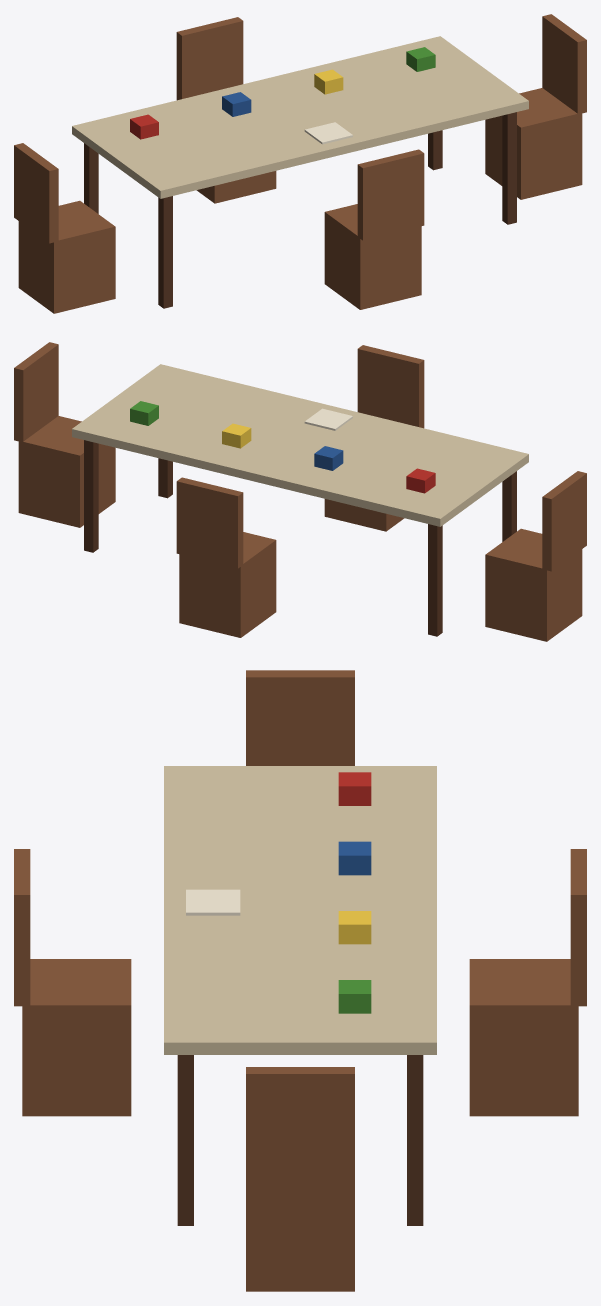
Rendered from art_table.glb.
3 renders of one model, top to bottom at view 1: azimuth 30°, elevation 25°; view 2: azimuth 150°, elevation 25°; view 3: azimuth 270°, elevation 25°, orthographic. The views are drawn at different scales.
Parts seen in each view (by area): view 1: Box1, Box12, Box6, Box10, Box7, Box9, Box13, Box11, Box3, Box5, Box8, Box2 (+6 smaller); view 2: Box1, Box12, Box8, Box10, Box9, Box7, Box13, Box11, Box2, Box4, Box6, Box3 (+6 smaller); view 3: Box1, Box6, Box8, Box11, Box10, Box13, Box4, Box5, Box7, Box9, Box14, Box16 (+3 smaller).
Boxes of the visible parts, <box> form: Box1: <box>72,36,528,198</box>; Box12: <box>18,200,115,313</box>; Box6: <box>324,204,421,309</box>; Box10: <box>485,88,582,199</box>; Box7: <box>357,149,424,240</box>; Box9: <box>176,17,243,100</box>; Box13: <box>14,143,58,243</box>; Box11: <box>542,14,586,113</box>; Box3: <box>158,196,172,308</box>; Box5: <box>502,112,516,224</box>; Box8: <box>196,171,276,203</box>; Box2: <box>84,143,98,213</box>; Box1: <box>72,364,528,526</box>; Box12: <box>485,528,582,641</box>; Box8: <box>179,532,276,637</box>; Box10: <box>18,416,115,527</box>; Box9: <box>176,477,243,568</box>; Box7: <box>357,345,424,428</box>; Box13: <box>542,471,586,571</box>; Box11: <box>14,342,58,441</box>; Box2: <box>428,524,442,636</box>; Box4: <box>84,440,98,552</box>; Box6: <box>324,499,404,531</box>; Box3: <box>502,471,516,541</box>; Box1: <box>164,766,436,1054</box>; Box6: <box>22,959,131,1116</box>; Box8: <box>469,959,578,1116</box>; Box11: <box>246,1067,354,1184</box>; Box10: <box>246,1185,354,1291</box>; Box13: <box>246,670,354,765</box>; Box4: <box>407,1055,423,1225</box>; Box5: <box>177,1055,193,1225</box>; Box7: <box>14,849,30,1006</box>; Box9: <box>570,849,586,1006</box>; Box14: <box>186,889,240,915</box>; Box16: <box>338,841,371,875</box>.
Size of the model in its own units: 3.5 by 0.895 by 2.1.
